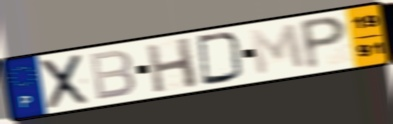B: (87, 48, 138, 103)
D: (195, 31, 247, 87)
H: (144, 36, 201, 95)
M: (247, 21, 308, 78)
P: (298, 14, 351, 72)
X: (40, 52, 91, 112)
